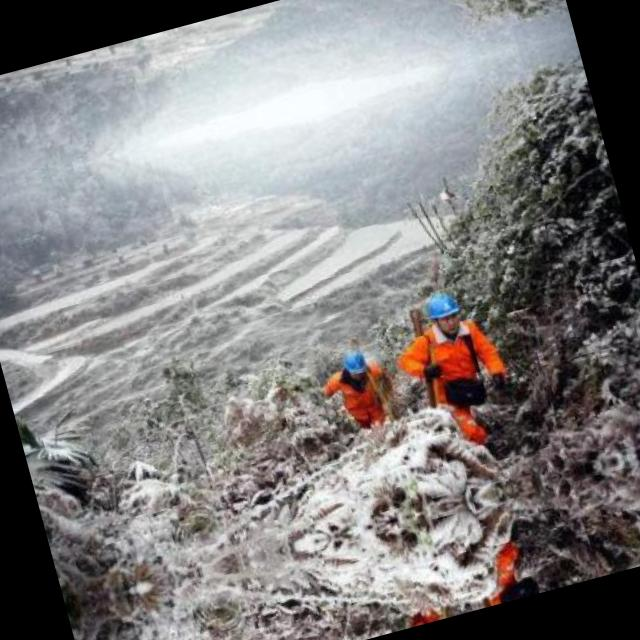helmet: (416, 284, 467, 336), (337, 344, 371, 382)
